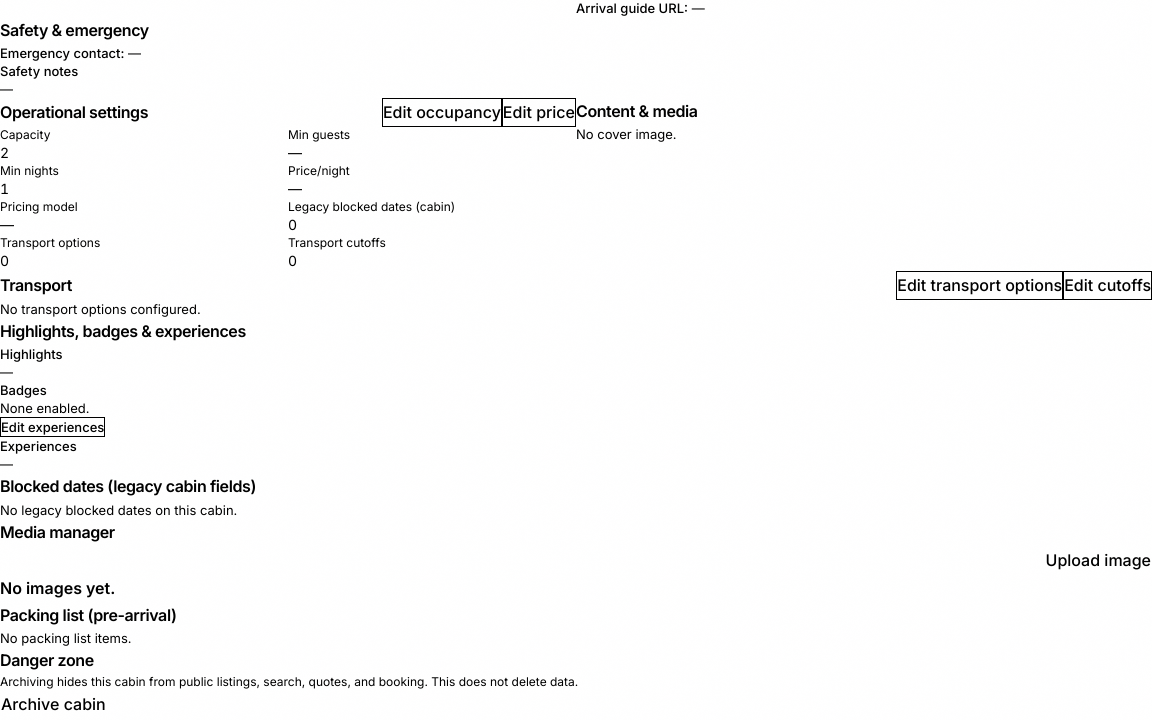
Test case: OpsCabinDetail migration › opens archive modal and cancels without archiving
(page scrolled)
Click the button "Archive cabin" at (53, 705), box [0, 690, 107, 719]
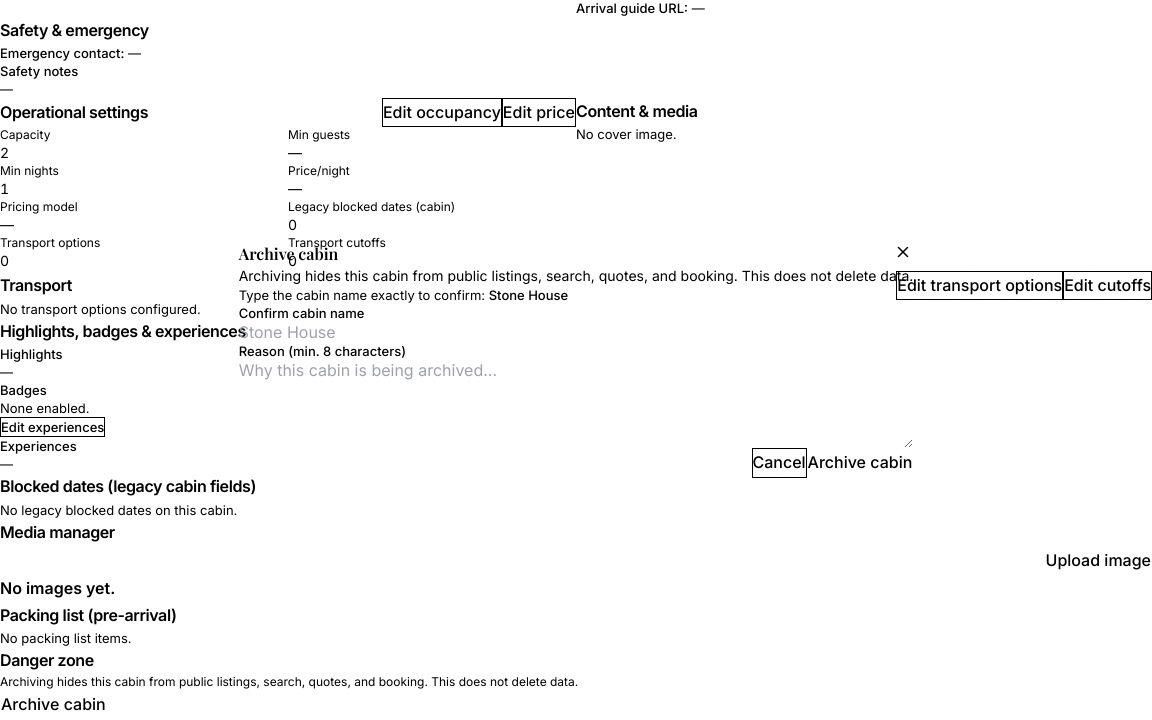
Expected: the dialog is shown, [239, 242, 913, 478]
Expected: the field labelled "Confirm cabin name" is shown, [239, 322, 913, 342]
Click the button "Cancel" at (779, 463), box [752, 448, 807, 478]
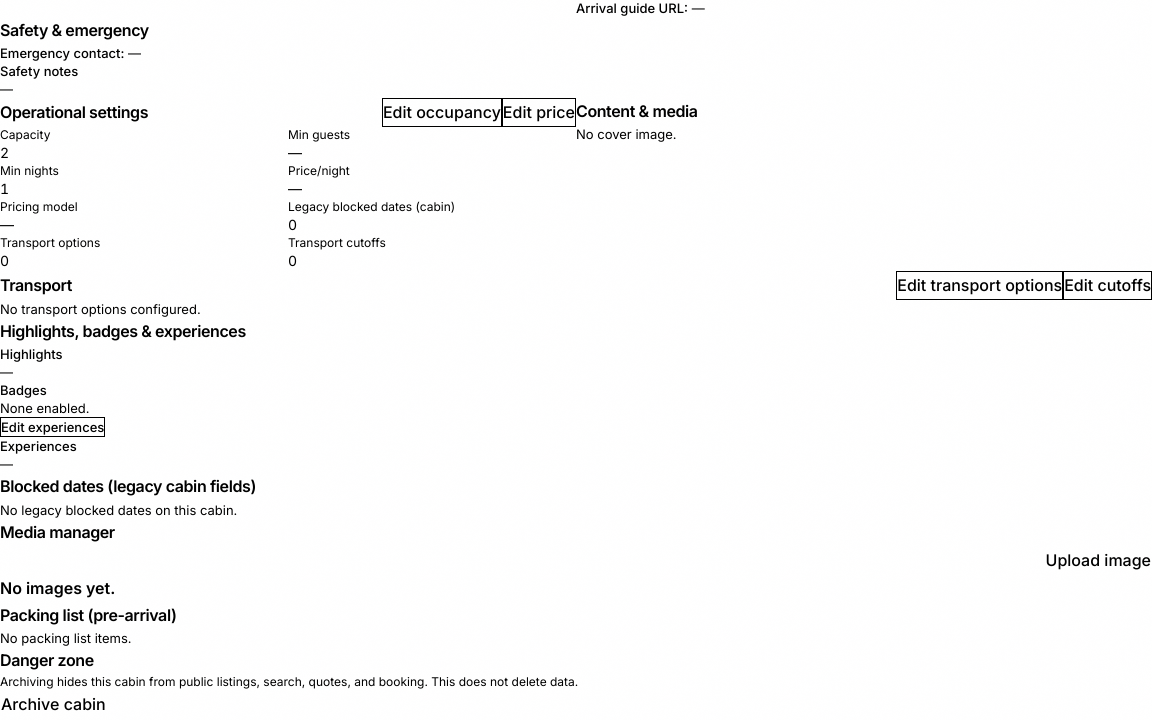
Expected: the dialog is gone
